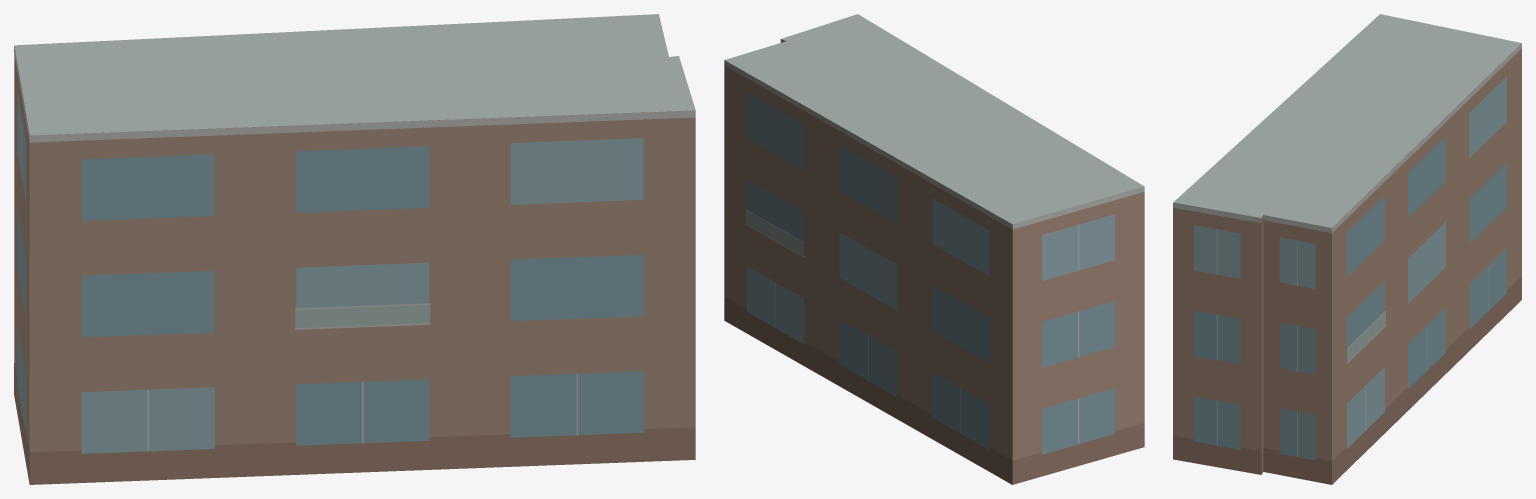
Rendered from survey-upis-32491795.glb.
The picture shows the model from 3 angles, left to right: view 1: azimuth 30°, elevation 25°; view 2: azimuth 150°, elevation 25°; view 3: azimuth 270°, elevation 25°; orthographic projection. The views are drawn at different scales.
Visible parts, largest first — view 1: survey-upis-32491795.tmp; view 2: survey-upis-32491795.tmp; view 3: survey-upis-32491795.tmp.
Part boxes in pixels (x1,y1,x2,y2): survey-upis-32491795.tmp: (14, 14, 695, 484); survey-upis-32491795.tmp: (724, 14, 1144, 484); survey-upis-32491795.tmp: (1173, 14, 1521, 484).
Bounding box in the file's own units: 21.44 × 12 × 14.77.
